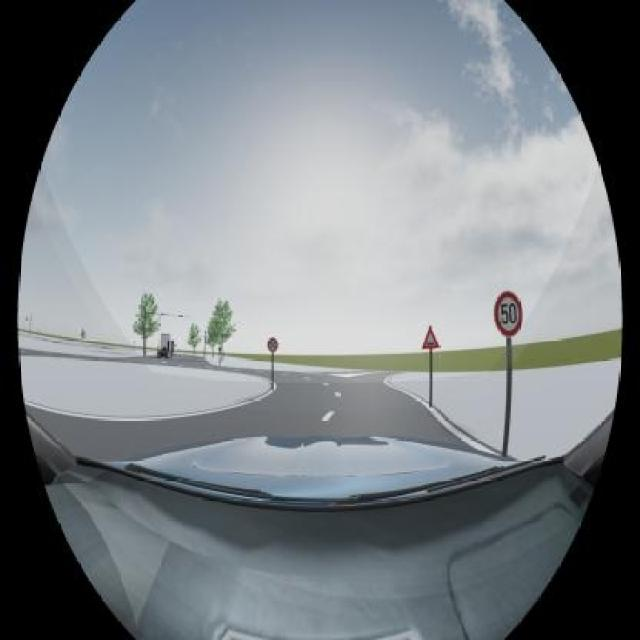forb_speed_over_50: (494, 291, 523, 337), (267, 338, 278, 352)
